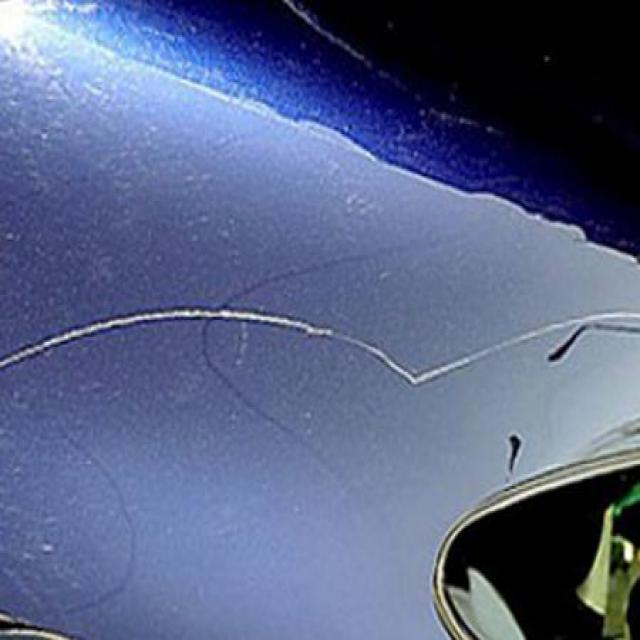scratch: (9, 299, 388, 391), (406, 303, 622, 392)
